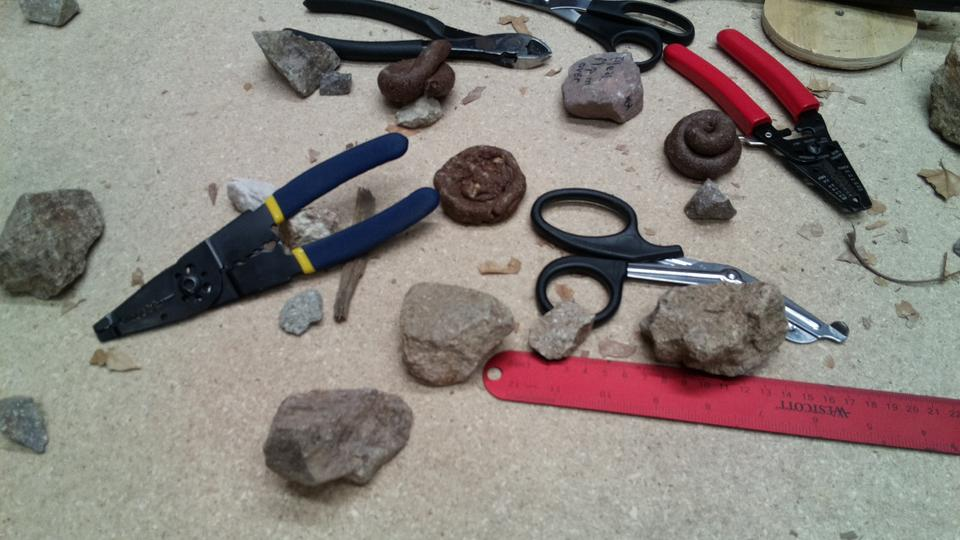poop: (429, 142, 531, 229), (662, 107, 745, 182), (374, 39, 461, 107)
